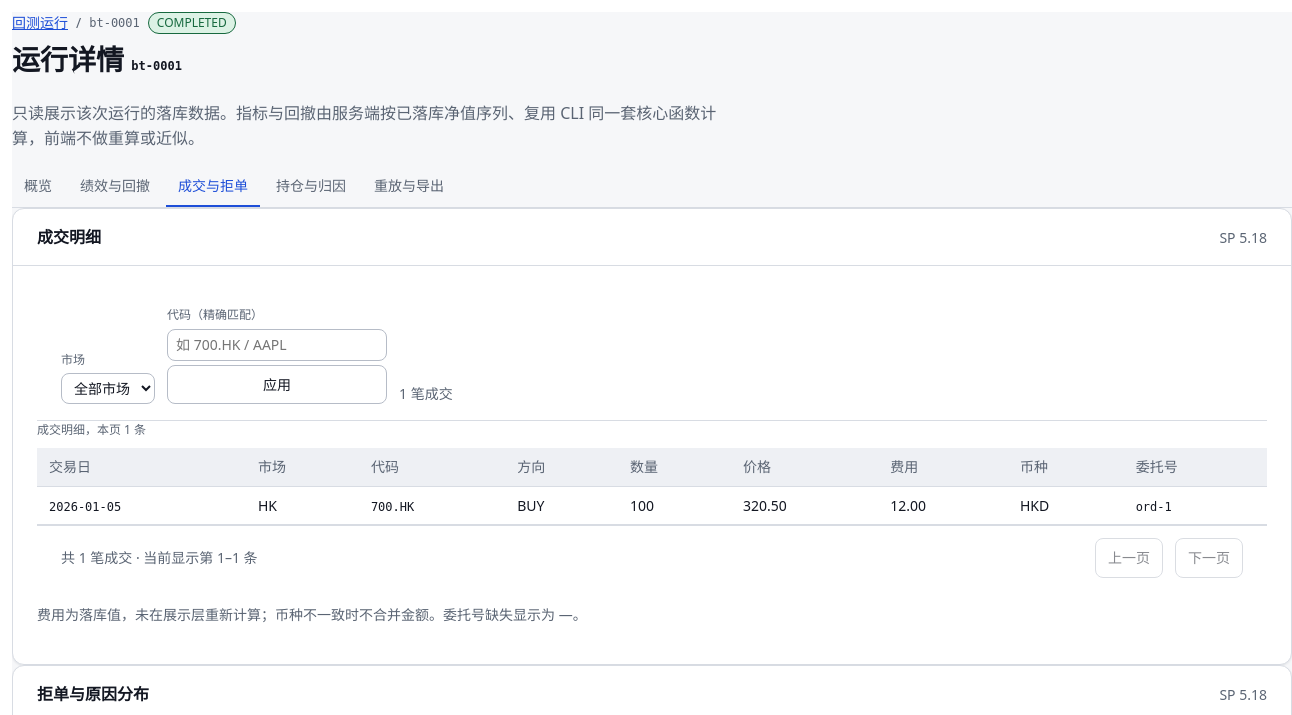
trades tab (SP 5.18) › explains an empty filtered result as a filter with no matches
The width and height of the screenshot is (1292, 715).
Expected: the text "700.HK" is shown, [371, 500, 414, 514]
Select "HK" in the dropdown with id "harbor-fill-market" at (108, 389), box [61, 373, 155, 404]
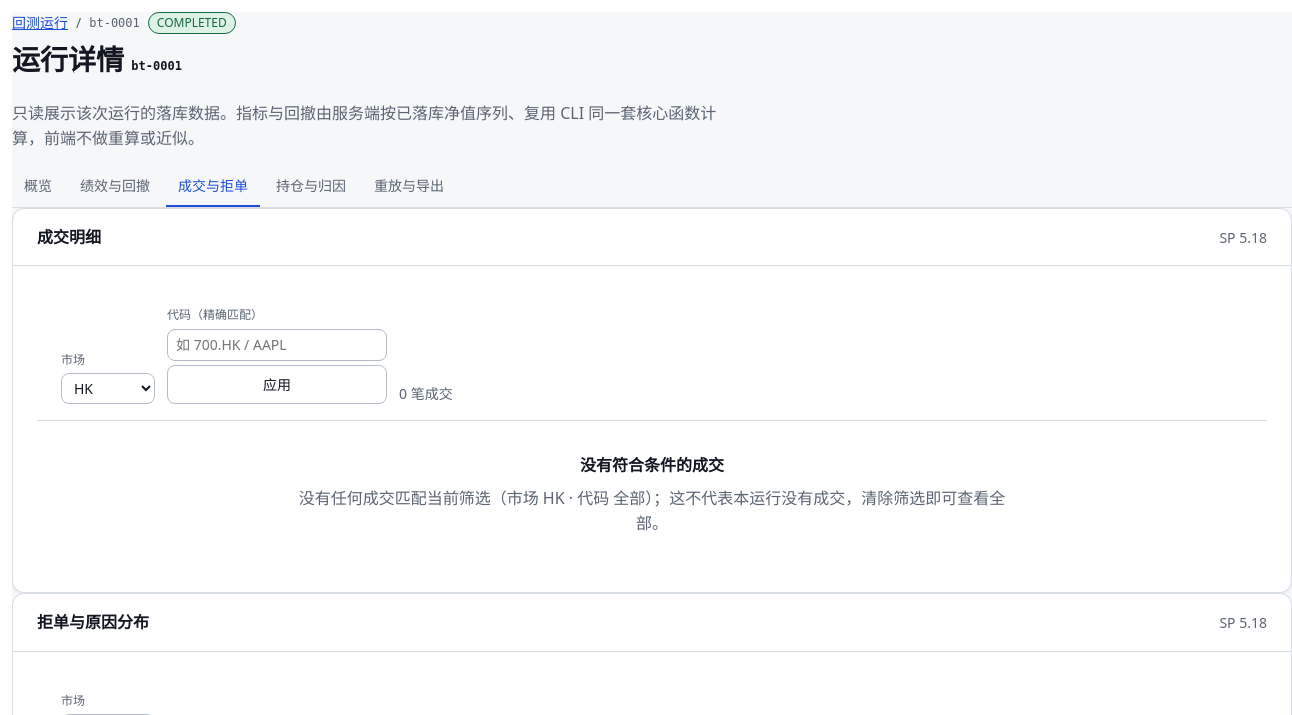
Result: the element with test id "empty-state" shows "没有任何成交匹配当前筛选" at [299, 487, 1005, 534]
Result: the element with test id "empty-state" shows "这不代表本运行没有成交" at [299, 487, 1005, 534]
